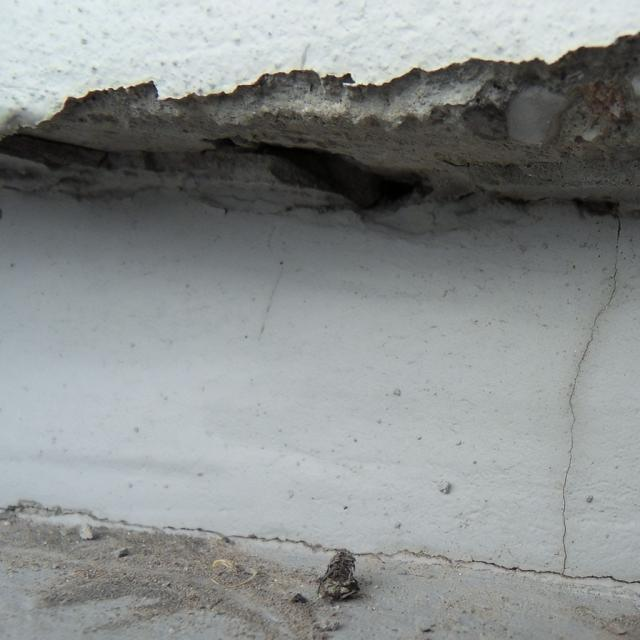D10: (6, 46, 639, 217)
